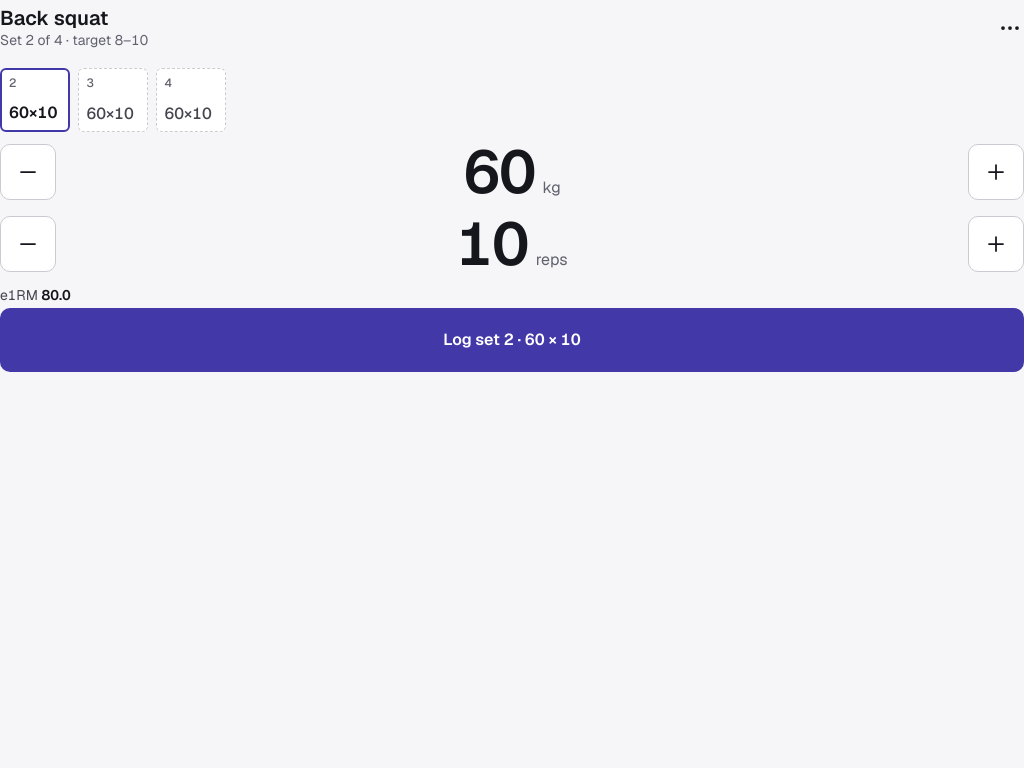
Test: O12 an entry outside the accepted reps range shows its message inline
Click the button named "Reps" at (492, 244), box [456,212,528,276]
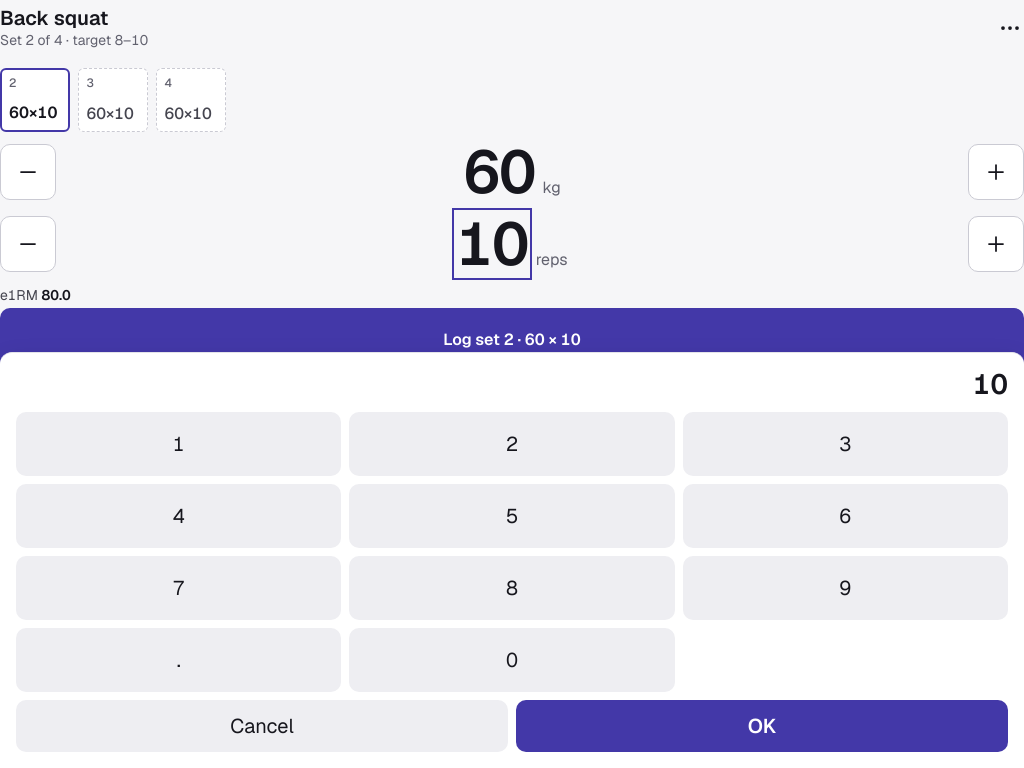
Click the button "0" at (512, 660), box [349,628,675,692]
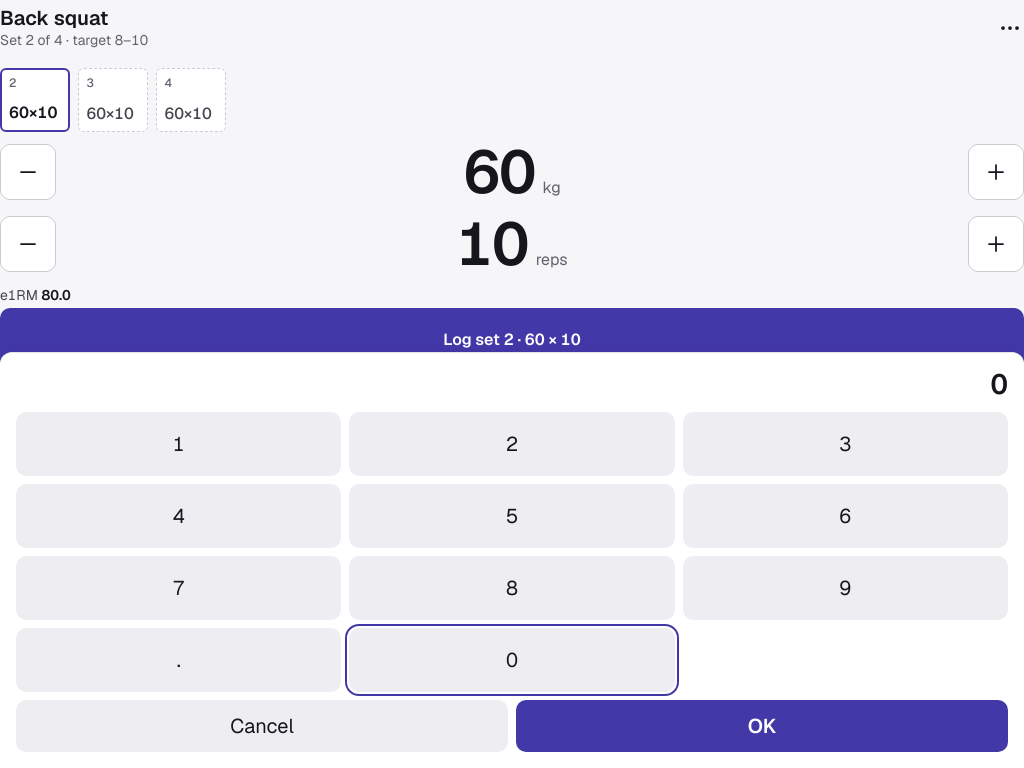
Click the button "OK" at (762, 726), box [516,700,1008,752]
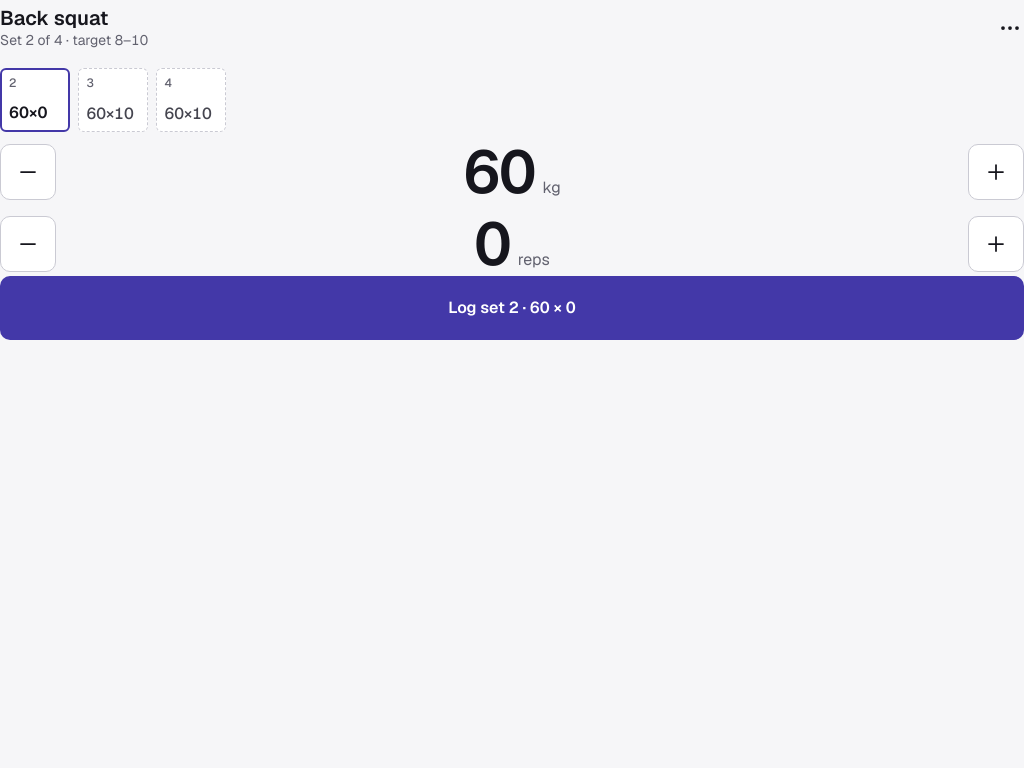
Click the button "Log set 2 · 60 × 0" at (512, 308), box [0,276,1023,340]
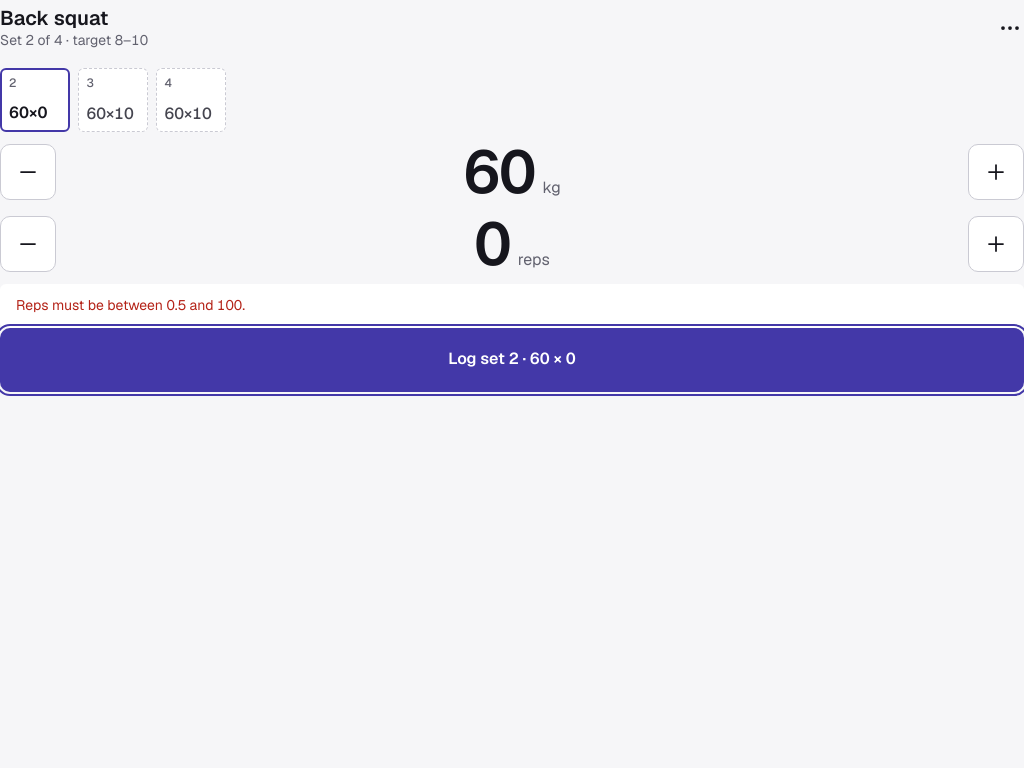
expect the text "Reps must be between 0.5 and 100." is shown: met, box [0,284,1023,328]
